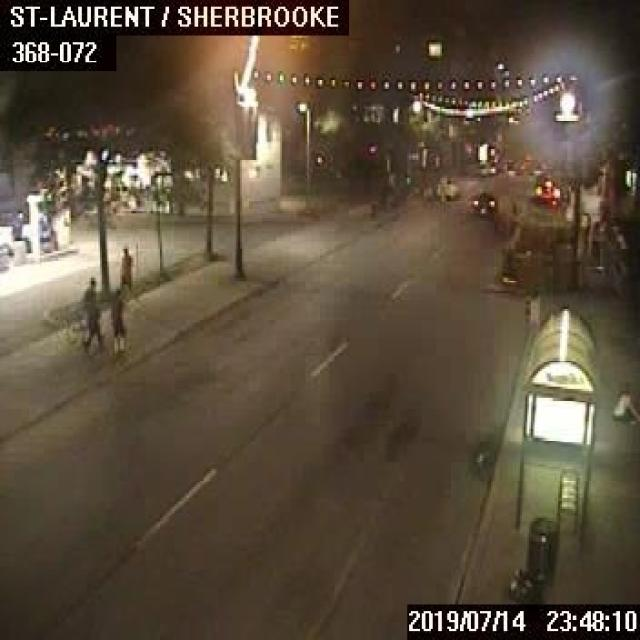pedestrian: (80, 273, 102, 347), (109, 287, 124, 351), (118, 244, 131, 284)
vehicle: (533, 173, 559, 201), (469, 191, 495, 213), (434, 175, 457, 197)
